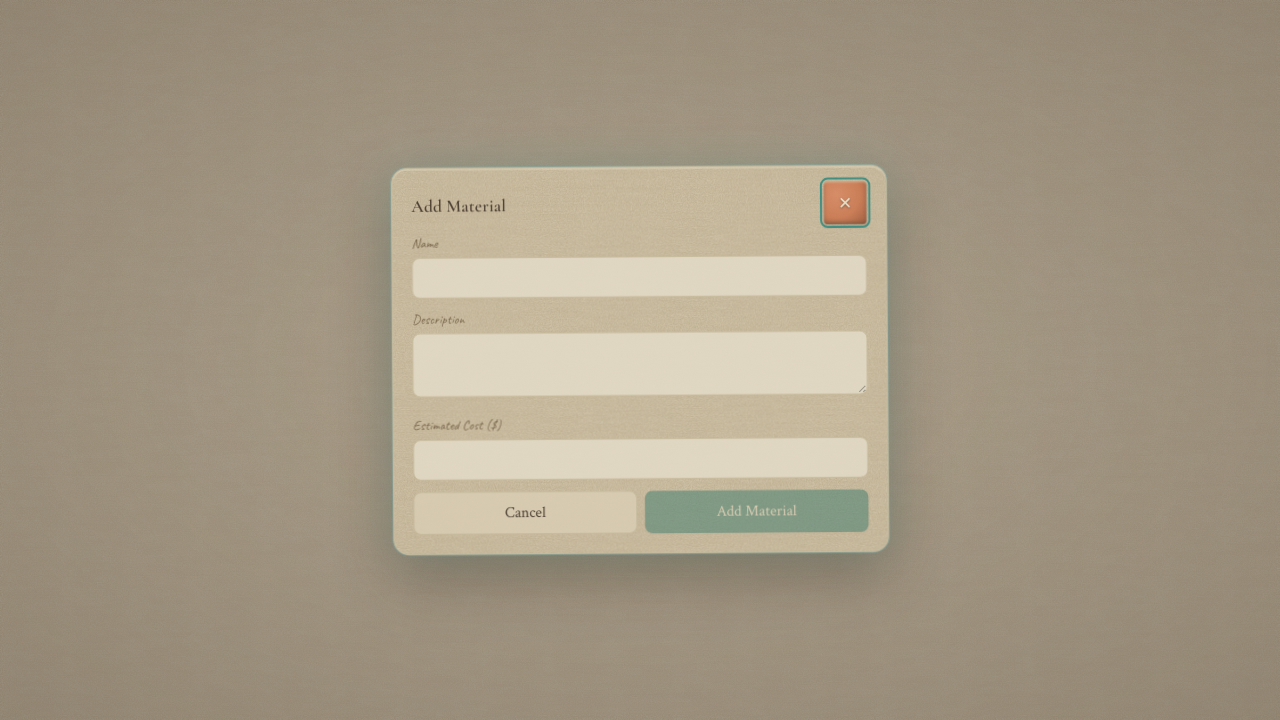
Test: AddMaterialModal › shows an error when save fails
The width and height of the screenshot is (1280, 720).
Type "x" into the field.
click(639, 277); type("x")  # box [412, 255, 867, 299]
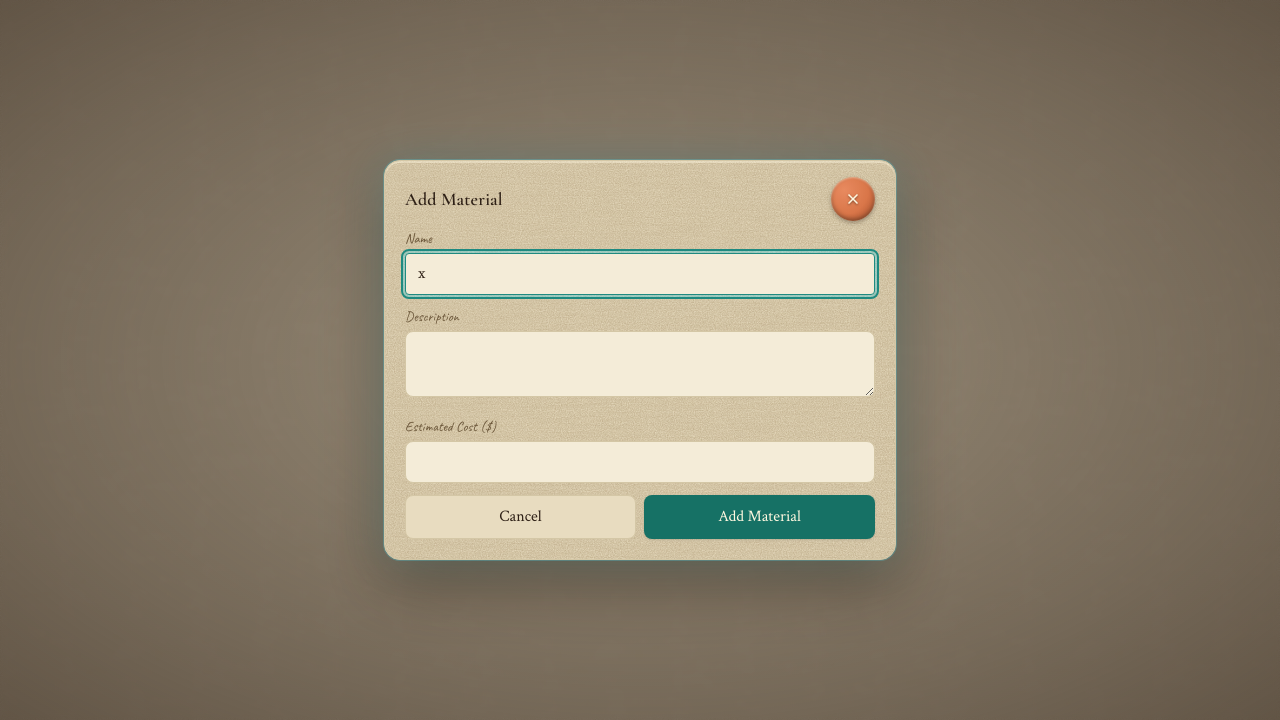
Click the button "Add Material".
click(760, 517)  # box [644, 495, 875, 539]
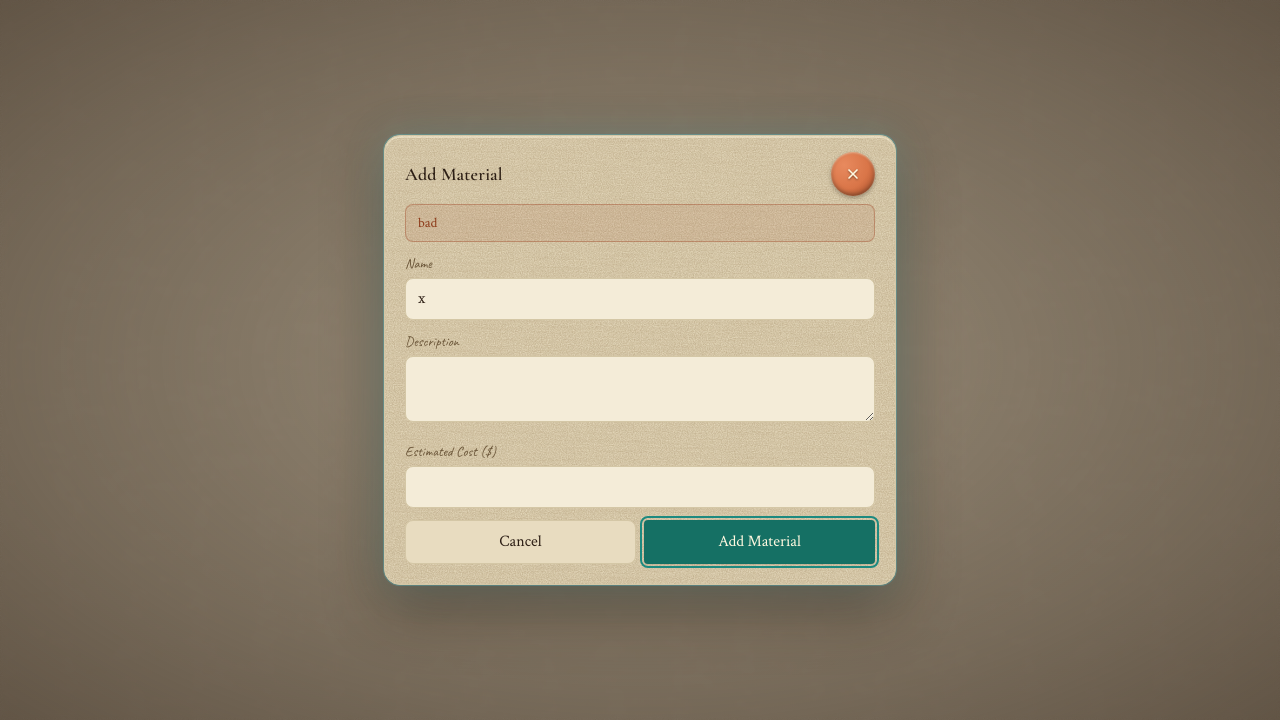
Expected: the text "bad" is shown, [418, 214, 437, 232]
